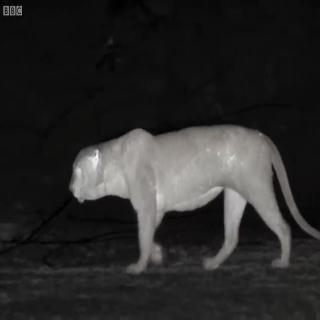Leopard: (59, 96, 318, 300)
